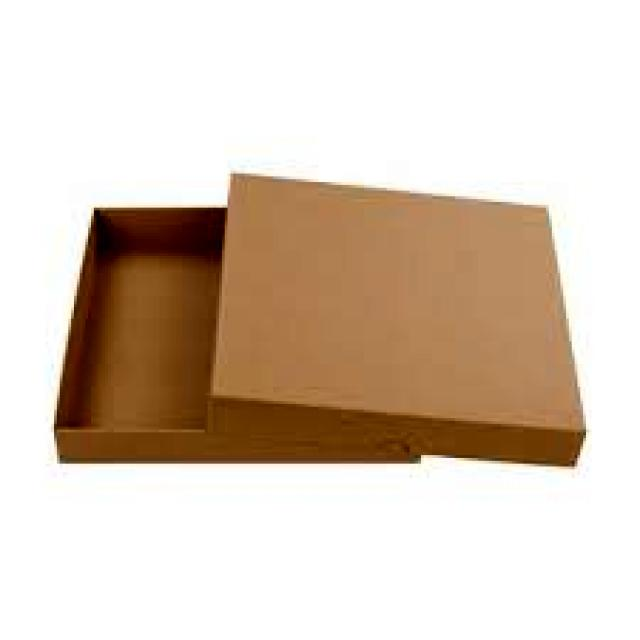Cardboard: (57, 171, 586, 473)
